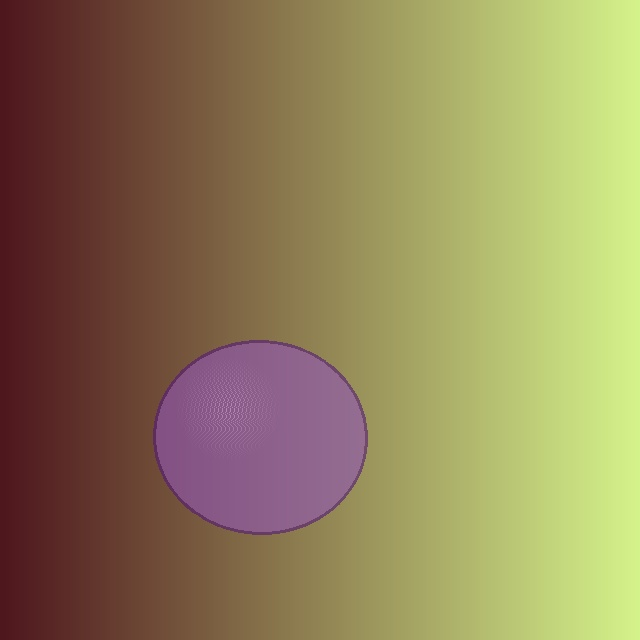lens: (154, 341, 366, 533)
